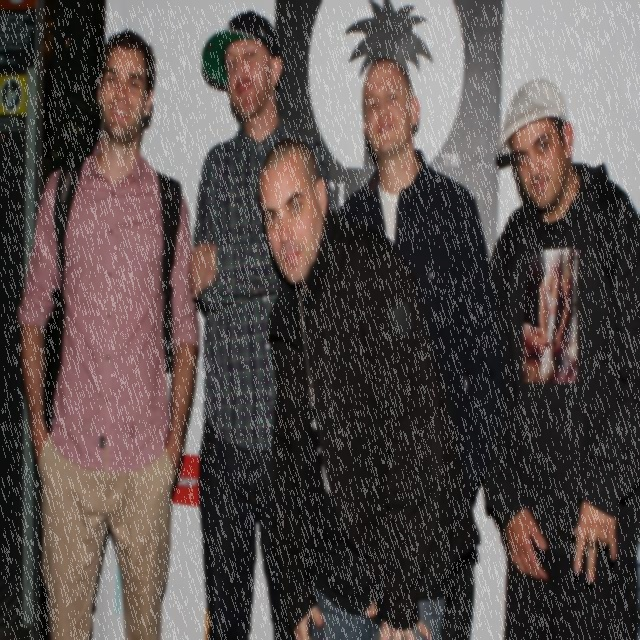pessoa: (15, 26, 202, 640), (250, 133, 476, 639), (468, 70, 639, 640), (338, 55, 500, 639), (185, 8, 332, 639), (520, 248, 578, 386)
